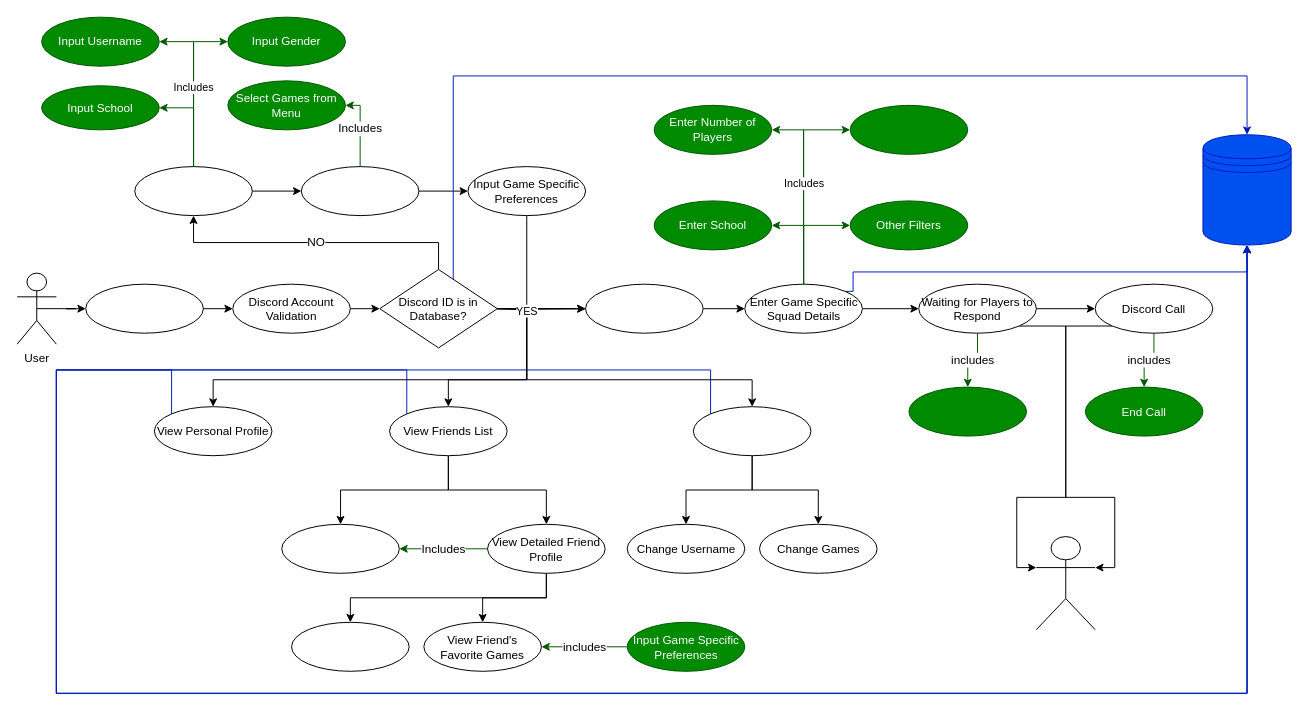
Some shapes in this 1308 by 718 pixel diagram are drawn without their labels. Each missing label, with the centre of its shape:
Add Favorite Games: the point at 359,191
Block Friends: the point at 340,548
Change Settings: the point at 751,431
Database: the point at 1246,189
Kick Player: the point at 967,411
Log in Through Discord: the point at 144,308
Other Users: the point at 1065,583
Profile Setup: the point at 193,191
Select Game to Queue: the point at 644,308
Select Voice Chat: the point at 908,129
View Friend's Username: the point at 350,646
